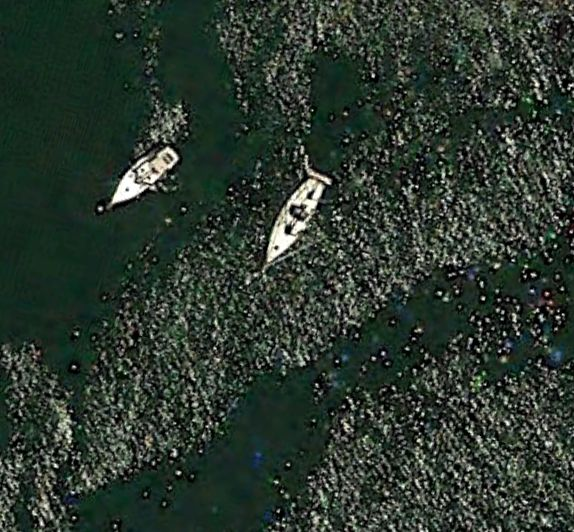boat: (263, 175, 327, 272), (100, 141, 181, 215)
